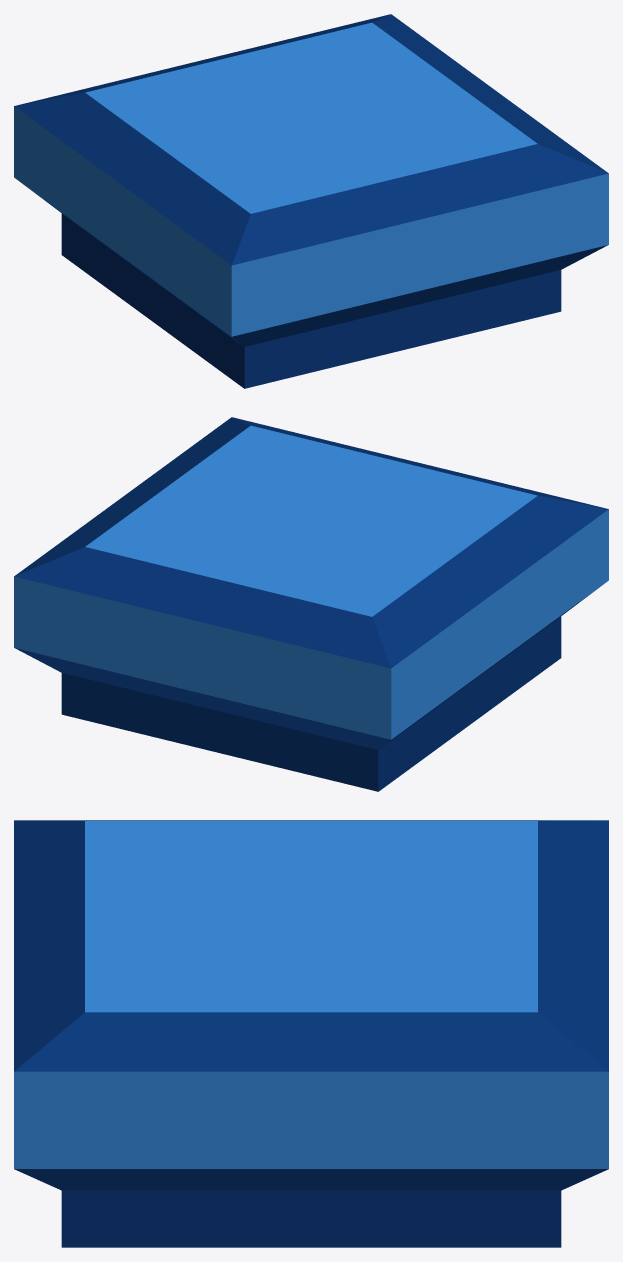
File: Tiles.gltf
3 views of the same model, one above another, from view 1: azimuth 30°, elevation 25°; view 2: azimuth 150°, elevation 25°; view 3: azimuth 270°, elevation 25° (orthographic). The views are drawn at different scales.
Visible parts, largest first — view 1: Cube; view 2: Cube; view 3: Cube.
Boxes of the visible parts, left/top/right/bottom form: Cube: left=14, top=14, right=608, bottom=388; Cube: left=14, top=417, right=608, bottom=791; Cube: left=14, top=820, right=608, bottom=1247.
Size of the model in its own units: 0.9997 by 0.4178 by 0.9997.
